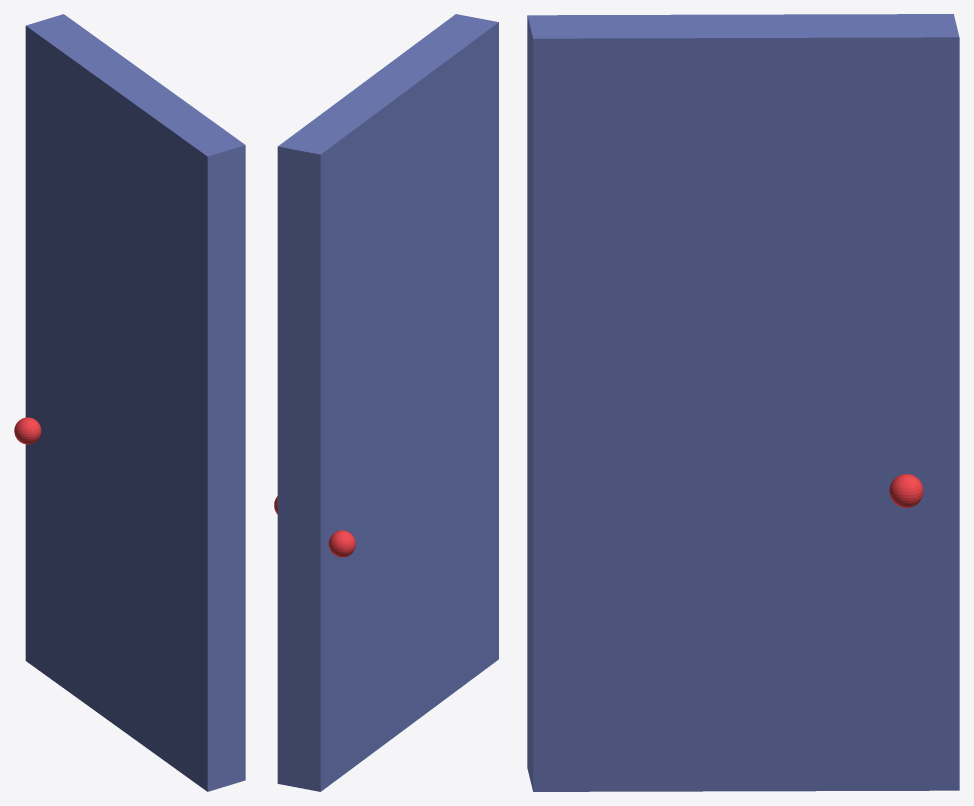
File: door2.obj
3 renders of one model, left to right at view 1: azimuth 30°, elevation 25°; view 2: azimuth 150°, elevation 25°; view 3: azimuth 270°, elevation 25°, orthographic. The views are drawn at different scales.
Parts seen in each view (by area): view 1: Cube.002_Cube.006; view 2: Cube.002_Cube.006; view 3: Cube.002_Cube.006.
Part boxes in pixels (x1,y1,x2,y2): Cube.002_Cube.006: (14, 14, 245, 791); Cube.002_Cube.006: (274, 14, 498, 791); Cube.002_Cube.006: (527, 14, 959, 791).
Bounding box in the file's own units: 0.3772 × 2.66 × 1.38.
